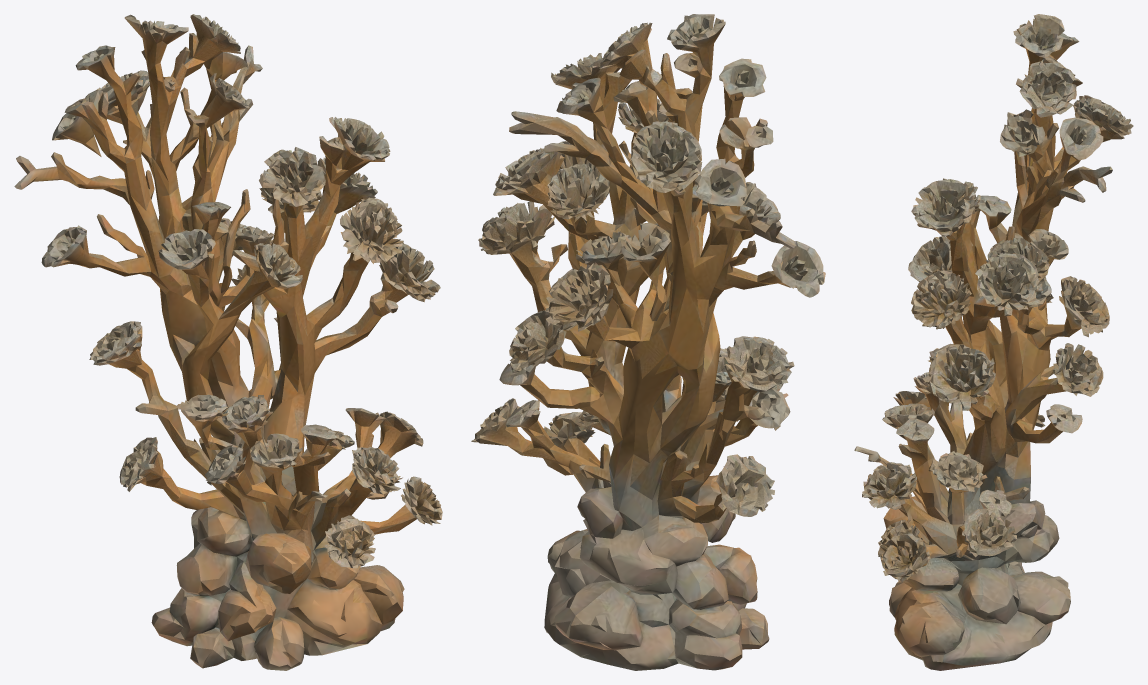
Rendered from corallo.glb.
The picture shows the model from 3 angles, left to right: view 1: azimuth 30°, elevation 25°; view 2: azimuth 150°, elevation 25°; view 3: azimuth 270°, elevation 25°; orthographic projection. The views are drawn at different scales.
Visible parts, largest first — view 1: Mesh_0; view 2: Mesh_0; view 3: Mesh_0.
Part boxes in pixels (x1,y1,x2,y2): Mesh_0: (14, 14, 442, 670); Mesh_0: (471, 14, 825, 670); Mesh_0: (854, 14, 1133, 670).
Bounding box in the file's own units: 0.7271 × 1.2 × 0.5367.
Materials: 1 (1 with a texture image).
